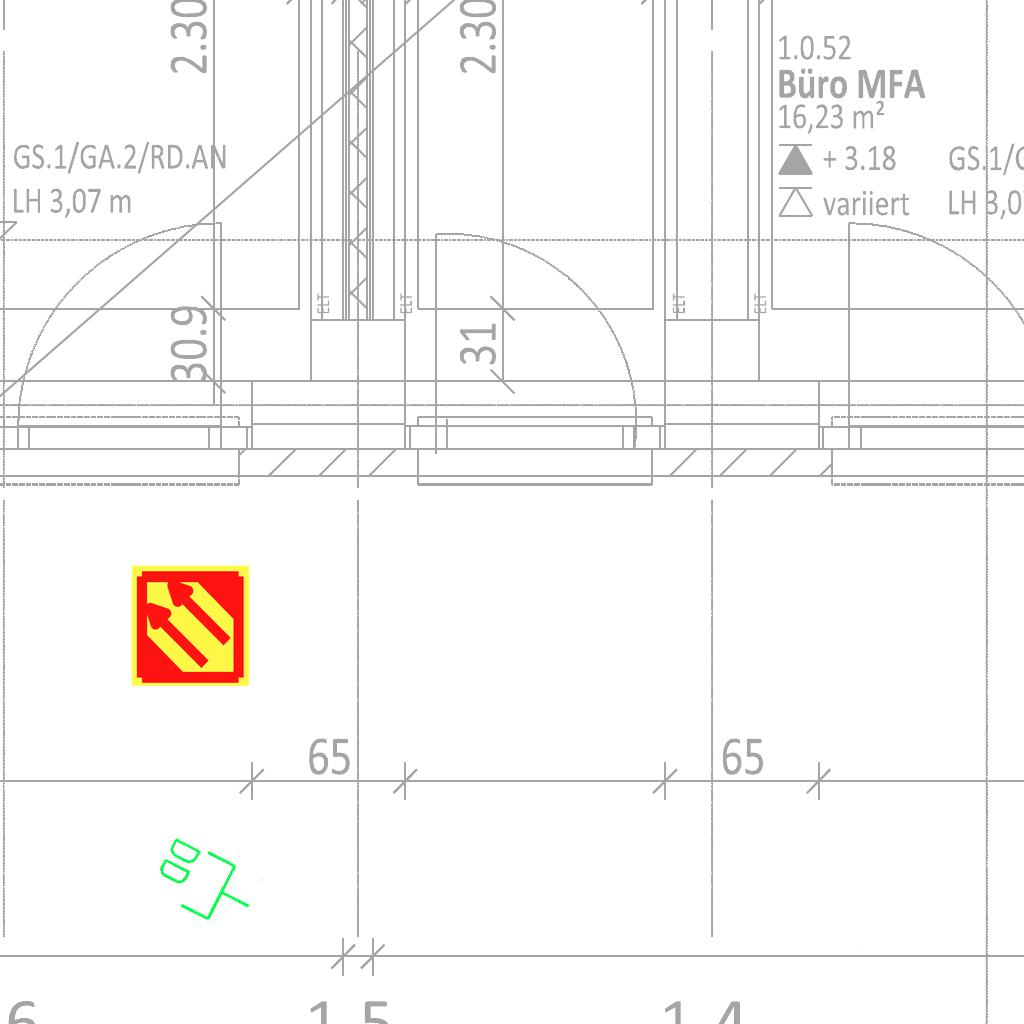ASR_Ansaugrauchmelder: (128, 563, 253, 688)
Datenanschluss_zweifach: (143, 829, 268, 938)
